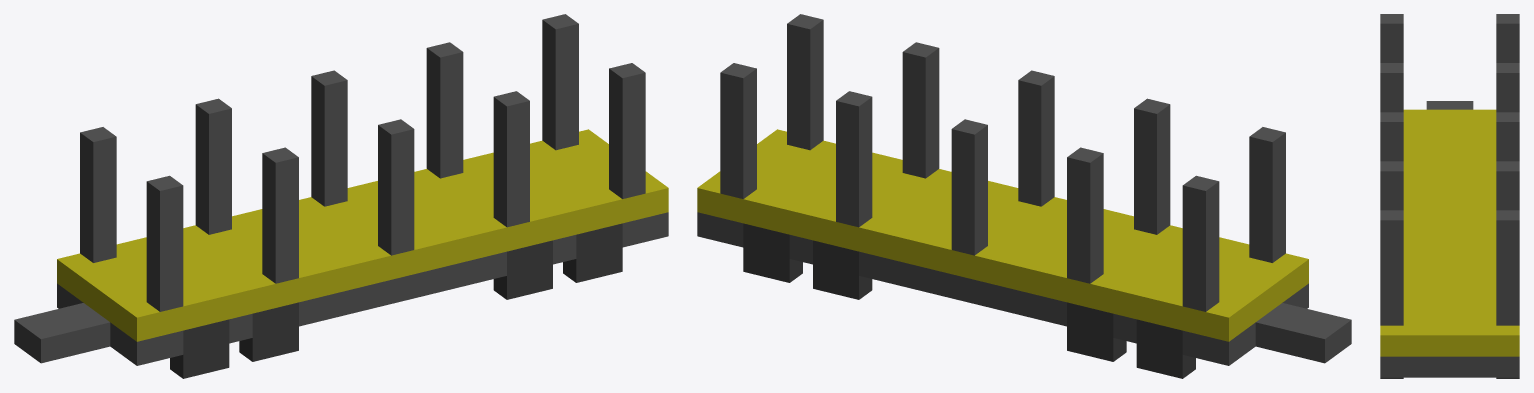
Rendered from train-trailer-v9-yellow.gltf.
The picture shows the model from 3 angles, left to right: view 1: azimuth 30°, elevation 25°; view 2: azimuth 150°, elevation 25°; view 3: azimuth 270°, elevation 25°; orthographic projection. The views are drawn at different scales.
Parts seen in each view (by area): view 1: model, wheels; view 2: model, wheels; view 3: model.
Part boxes in pixels (box(x1,y1,x2,y2)): model: box(14, 14, 668, 365); wheels: box(170, 223, 622, 378); model: box(697, 14, 1351, 365); wheels: box(743, 223, 1195, 378); model: box(1380, 14, 1519, 377).
Size of the model in its own units: 2.6 by 0.8 by 0.6.
Materials: 2 (2 with a texture image).
